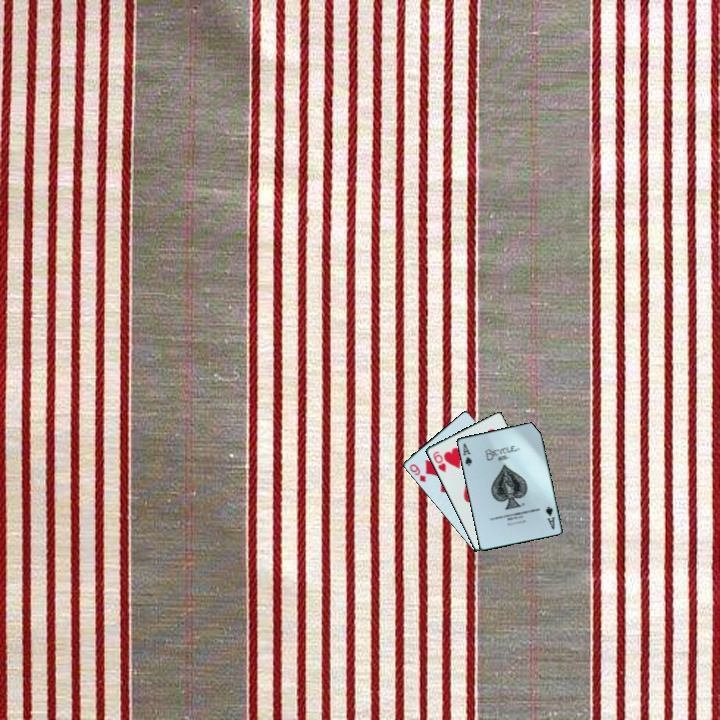6h: (429, 448, 449, 475)
9d: (406, 460, 428, 485)
As: (542, 503, 557, 532), (459, 440, 474, 468)
